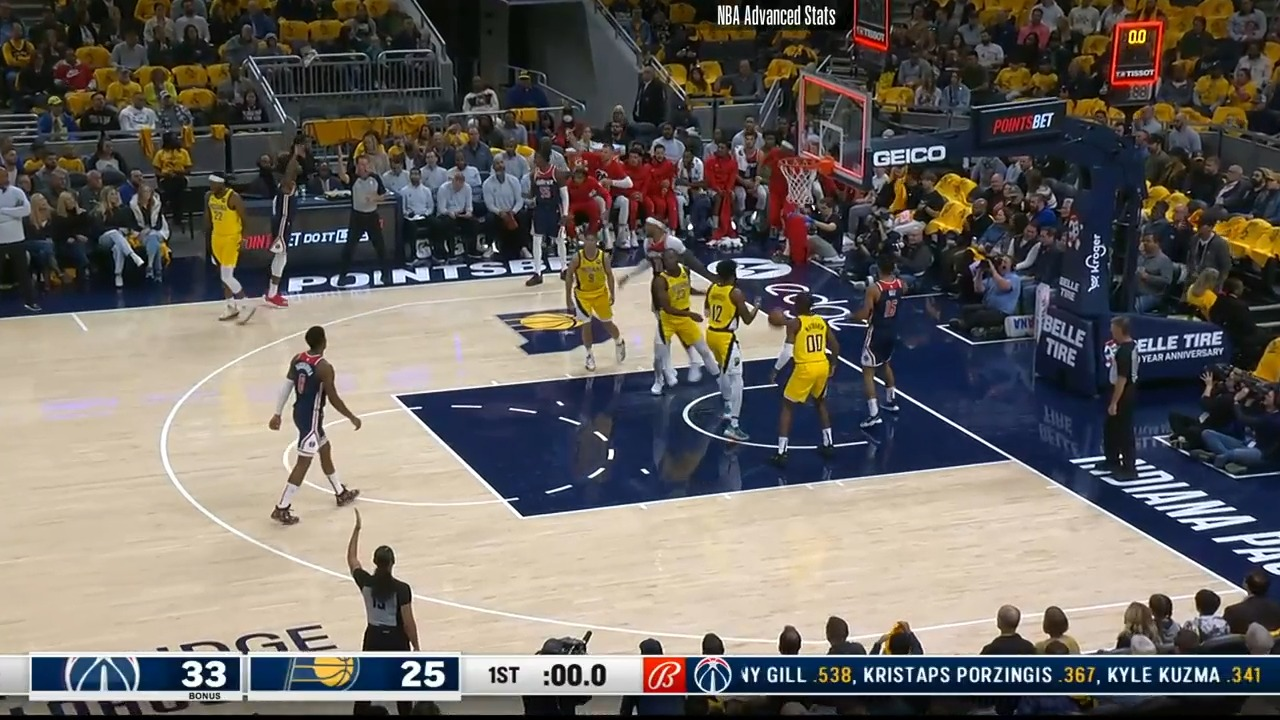net: (773, 150, 840, 208)
player: (264, 320, 361, 528), (771, 287, 847, 468), (625, 211, 703, 384), (644, 226, 717, 400), (696, 258, 765, 442), (845, 252, 908, 429), (558, 223, 626, 376), (202, 170, 265, 323), (525, 154, 576, 293), (266, 160, 304, 311)
referee: (345, 500, 426, 653), (342, 155, 398, 294), (1099, 313, 1145, 481)
